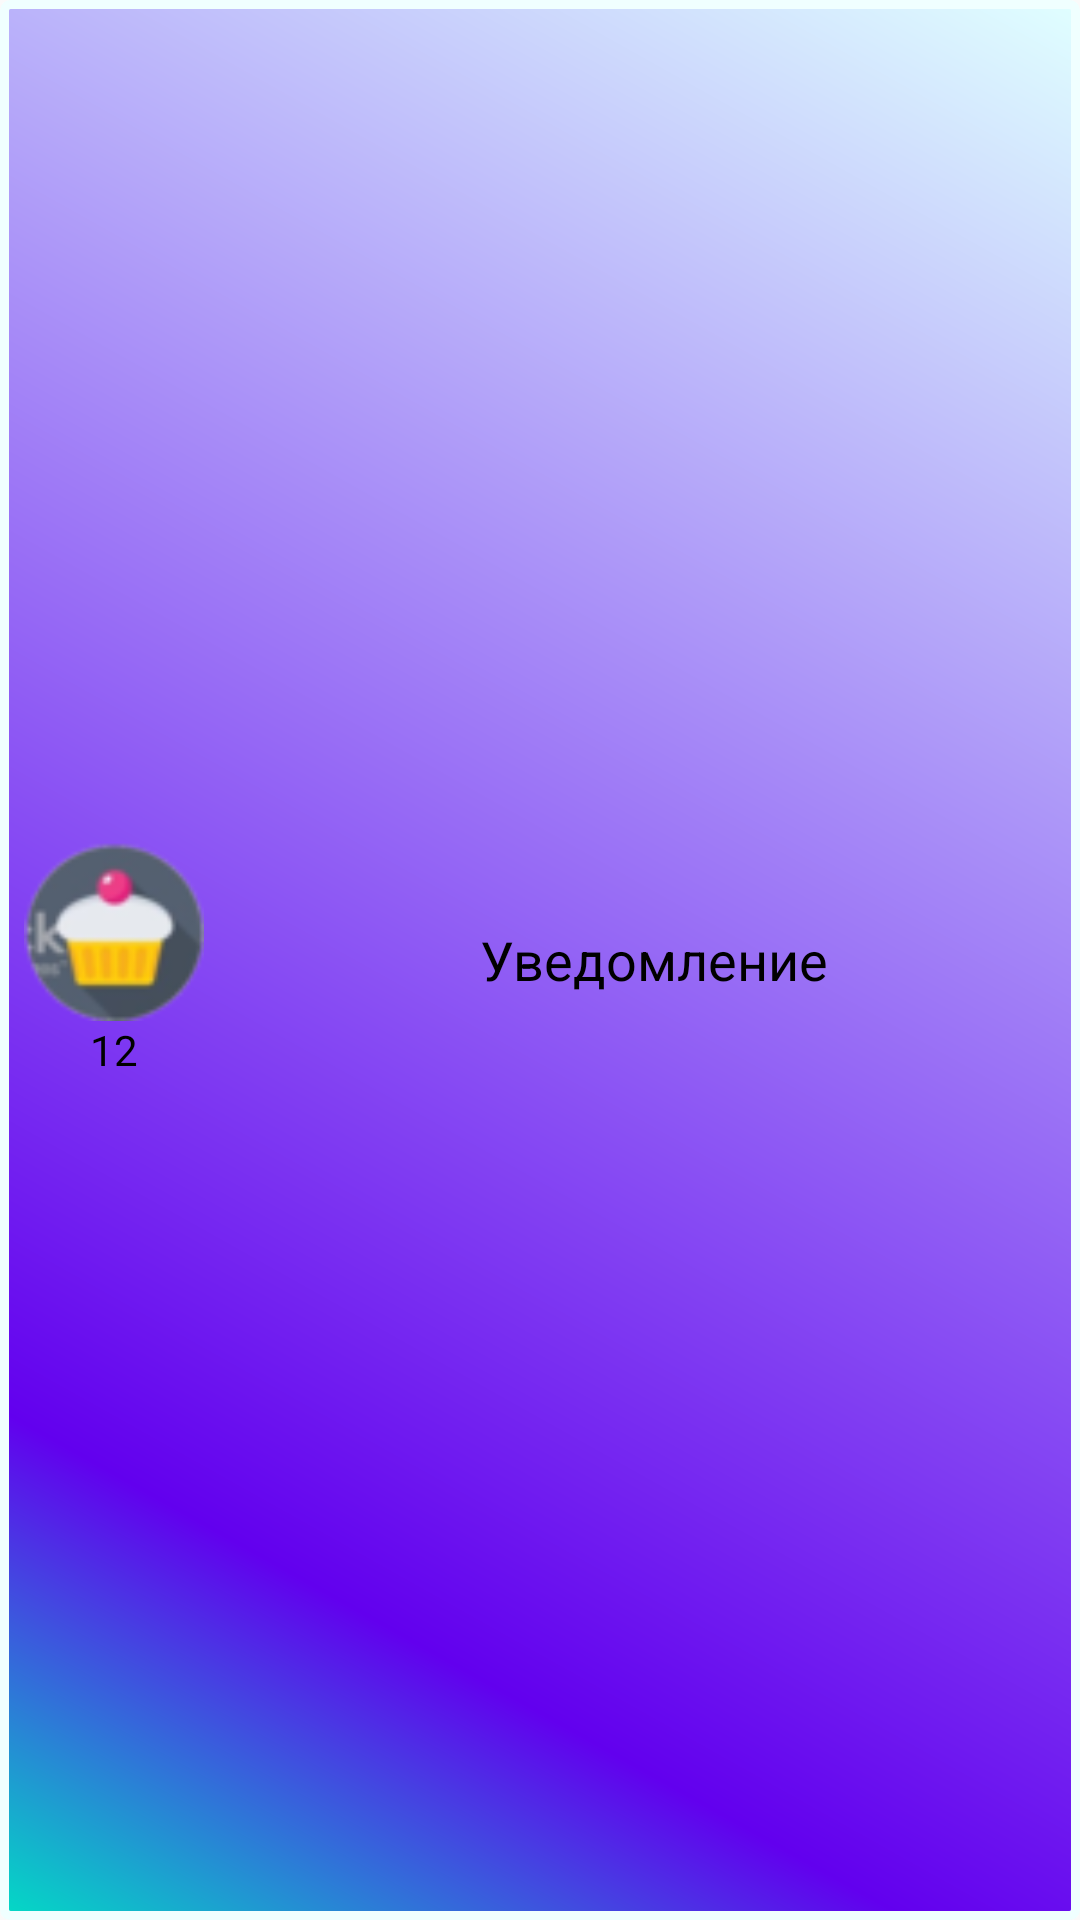

Screen size 1080*1920. Icon name, then its center in pixels as point (x, y):
food: point (114, 932)
